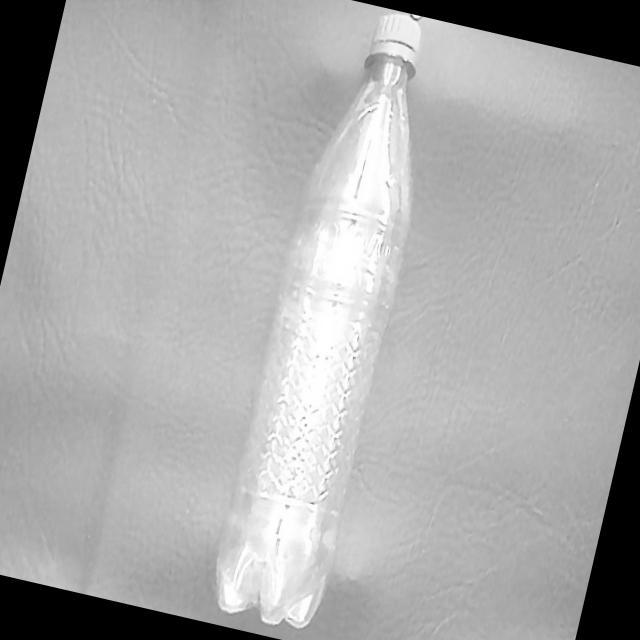good: (197, 0, 459, 639)
